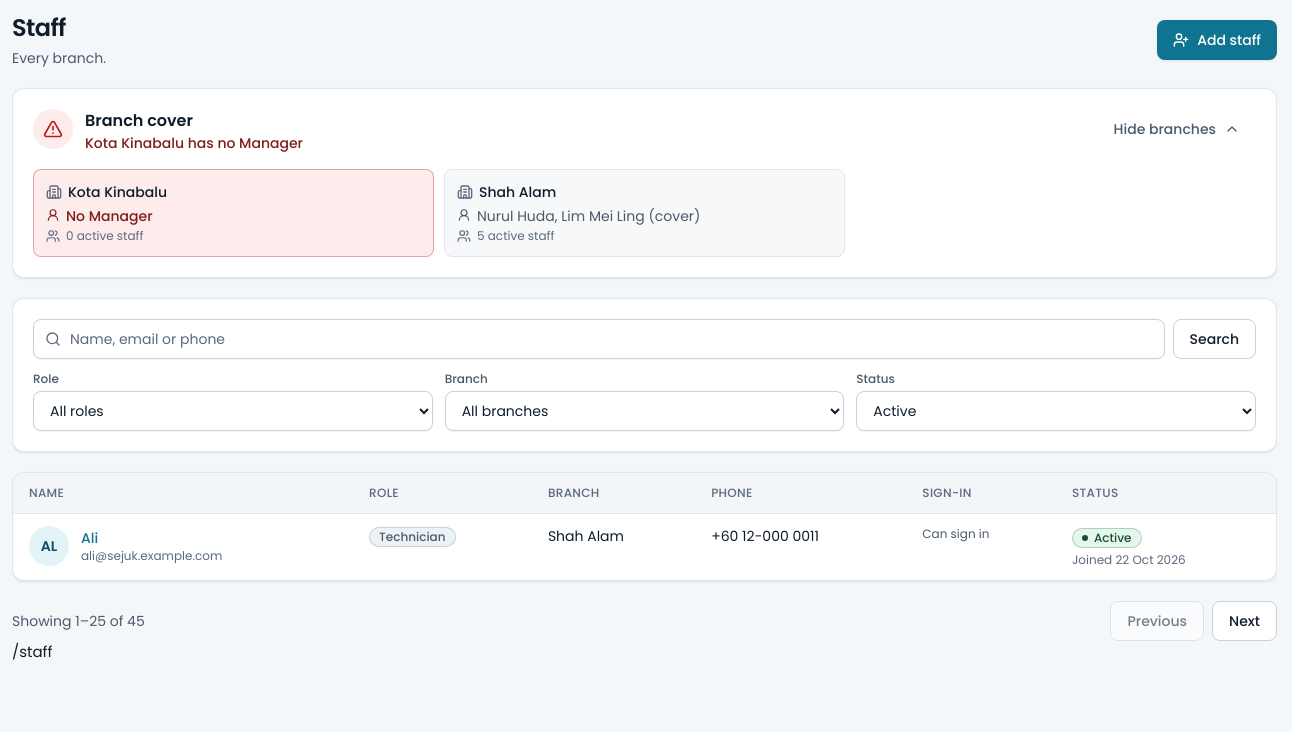
Test: Staff list › pages through 40+ teams
Expected: the text "Showing 1–25 of 45" is shown, [12, 611, 145, 631]
Click the button "Next" at (1245, 621), box [1212, 601, 1277, 641]
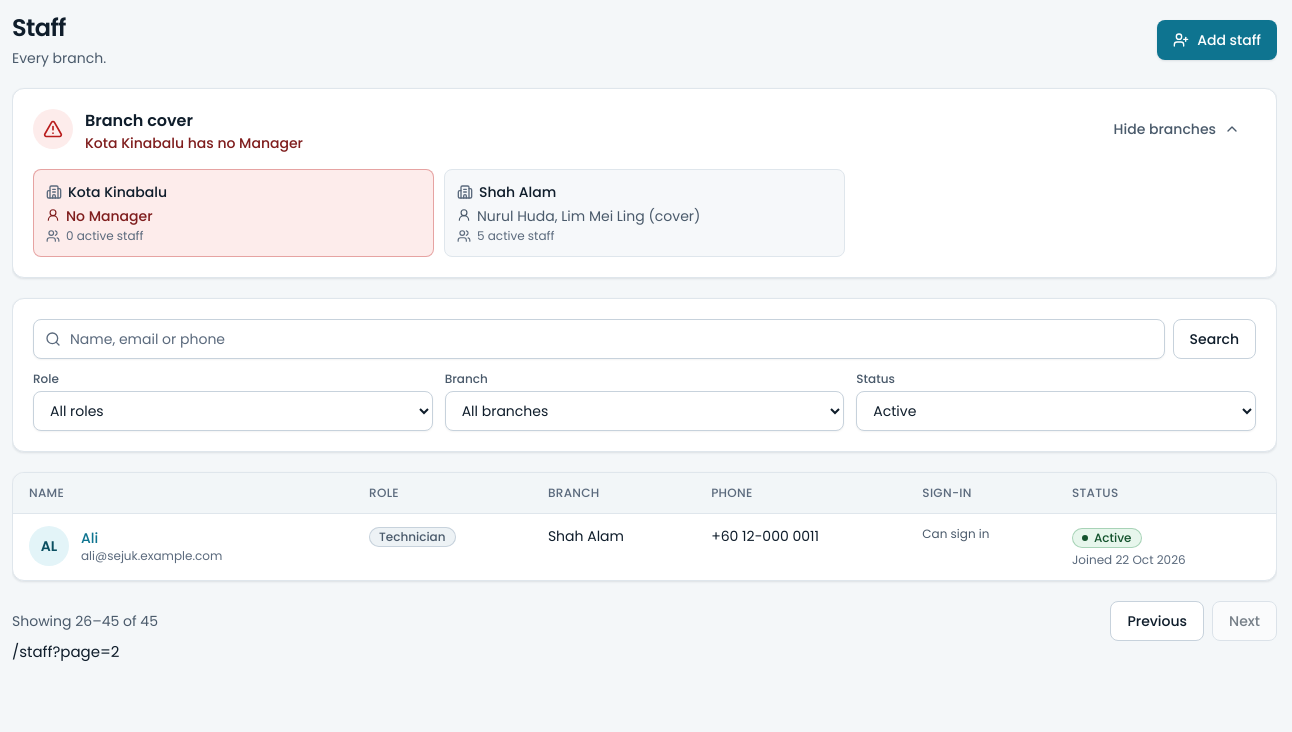
Expected: the text with test id "where" reads "/staff?page=2", [12, 641, 120, 662]
